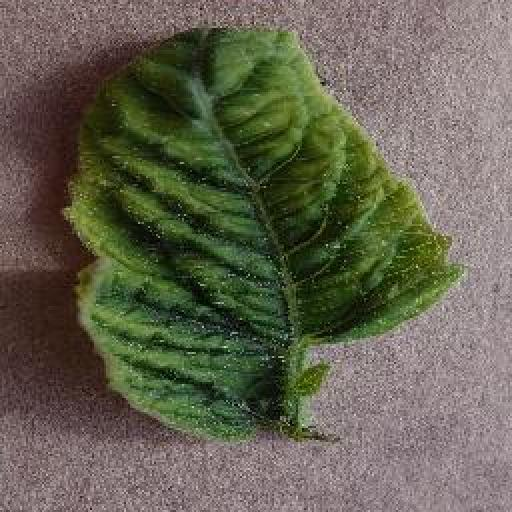disease_tomato: (63, 24, 466, 444)
